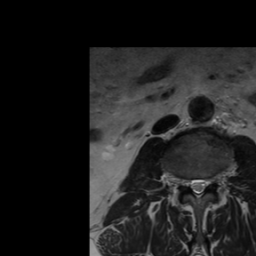CCS_stenosis: (195, 172, 201, 202)
LFS_normal: (208, 169, 215, 189)
LLS_normal: (201, 174, 207, 193)
RFS_normal: (182, 171, 189, 195)
RLS_normal: (189, 174, 195, 195)
